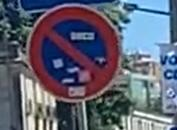estacionamento proibido: (23, 2, 125, 104)
